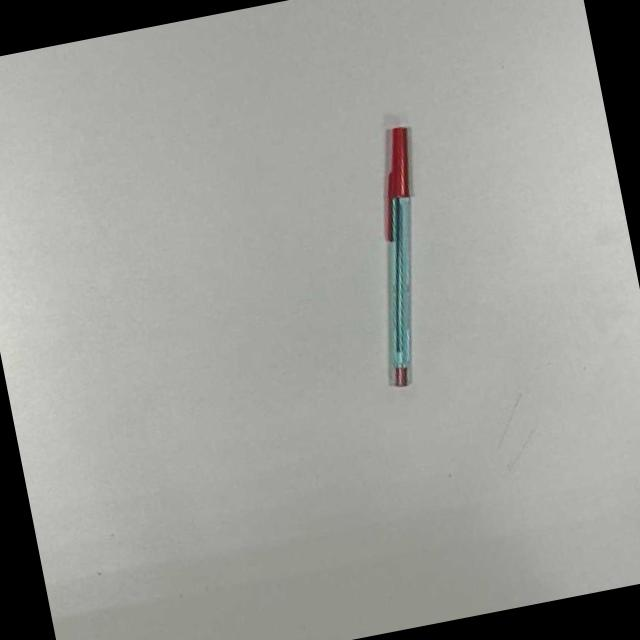caneta: (386, 128, 409, 387)
